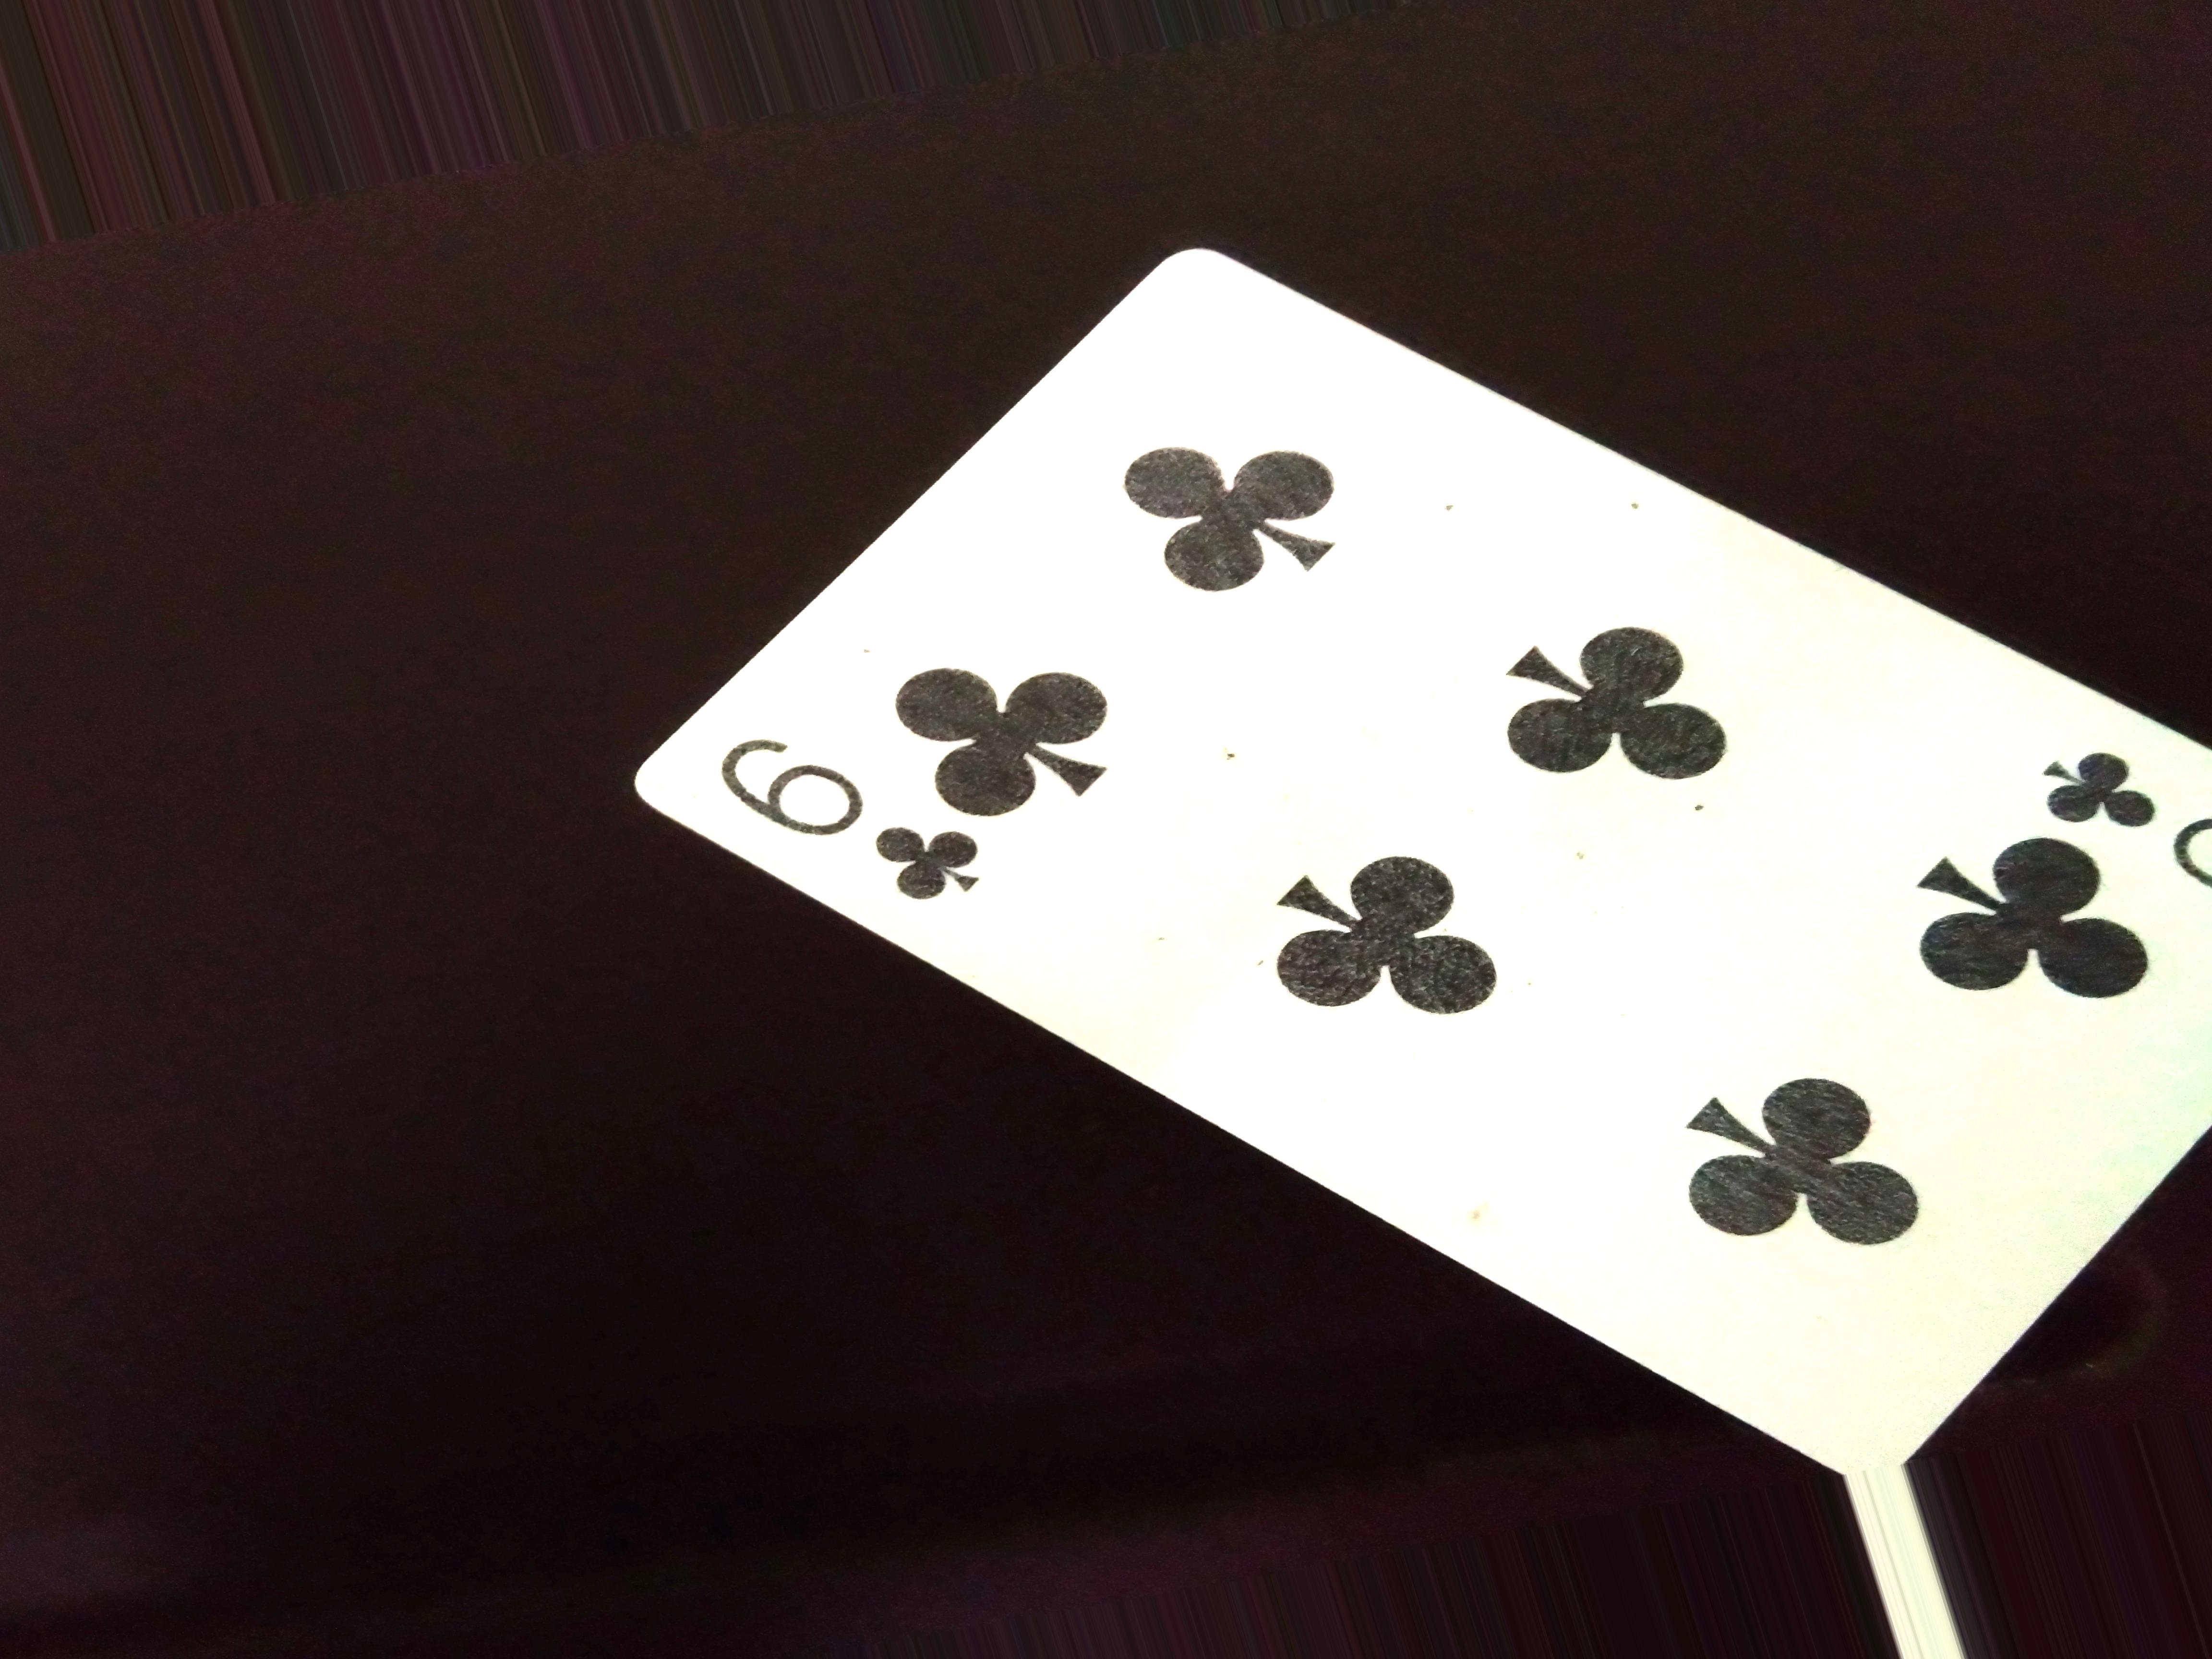6C: (716, 732, 991, 927)
